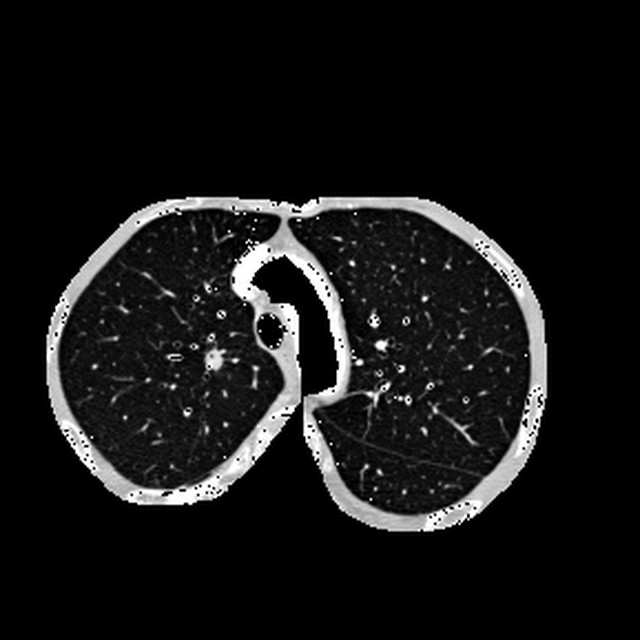PN: (204, 350, 221, 368)
